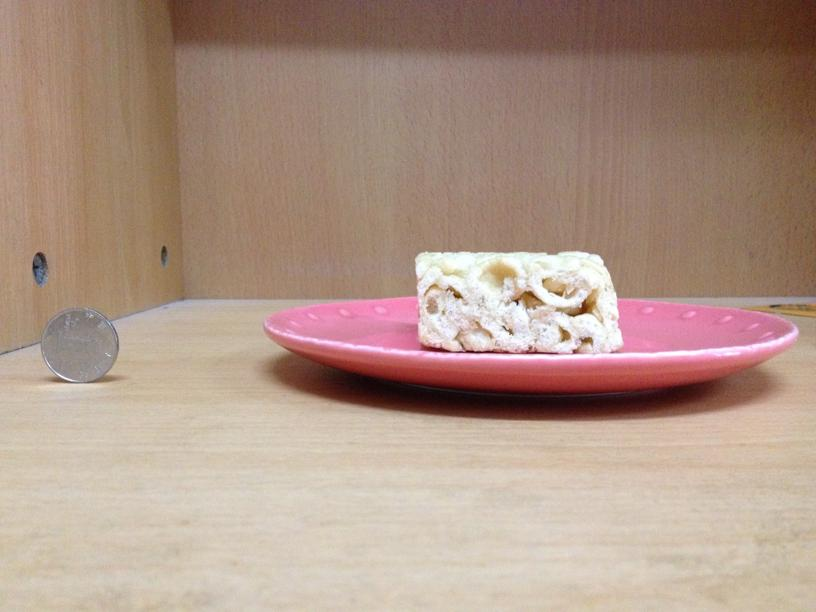coin: (40, 305, 121, 381)
sachima: (409, 248, 623, 352)
